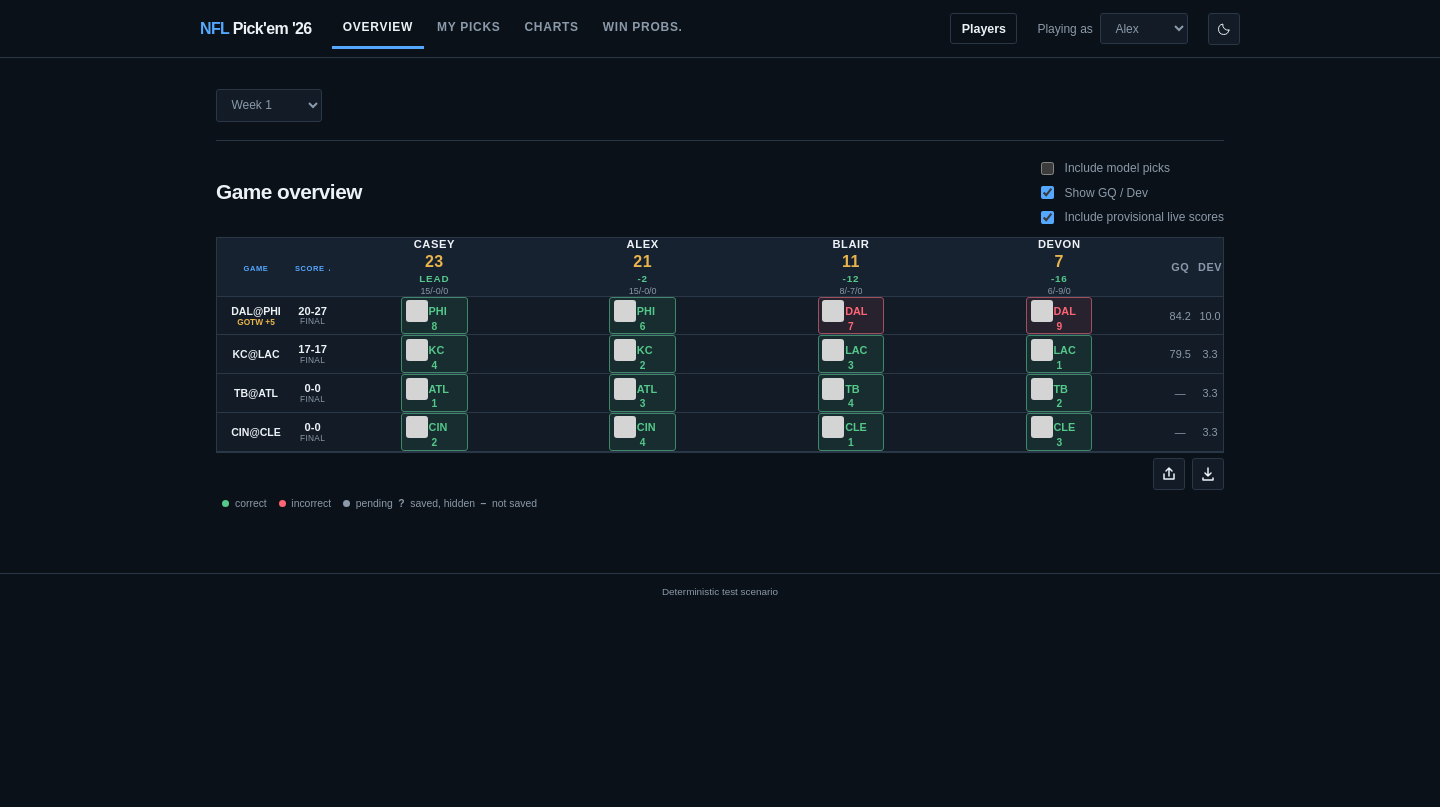
Test: four-user application flow › puts compact standings first inside Charts
Click the button "Charts" at point(552, 28), box left=513, top=8, right=590, bottom=49
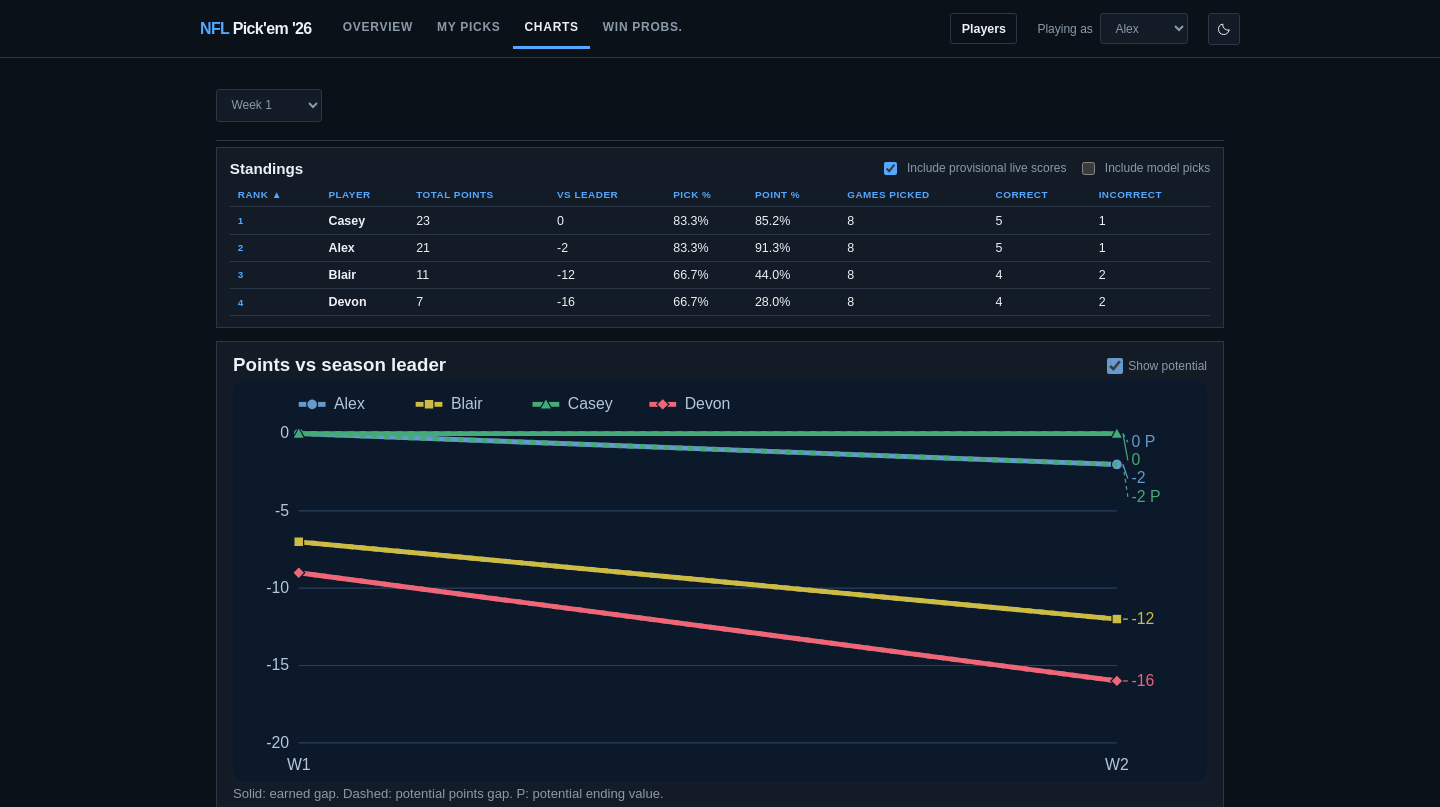
Expected: the table named "Current standings" is shown, left=230, top=183, right=1210, bottom=316
Expected: the column heading "Total points" is shown, left=408, top=183, right=549, bottom=207
Expected: the column heading "Vs leader" is shown, left=549, top=183, right=665, bottom=207
